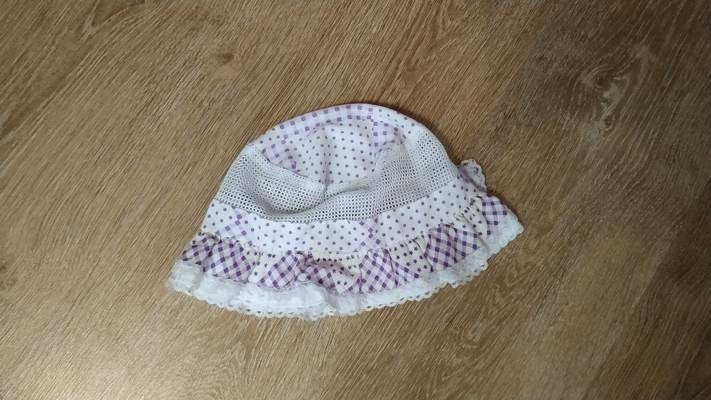Hat: (151, 83, 556, 340)
